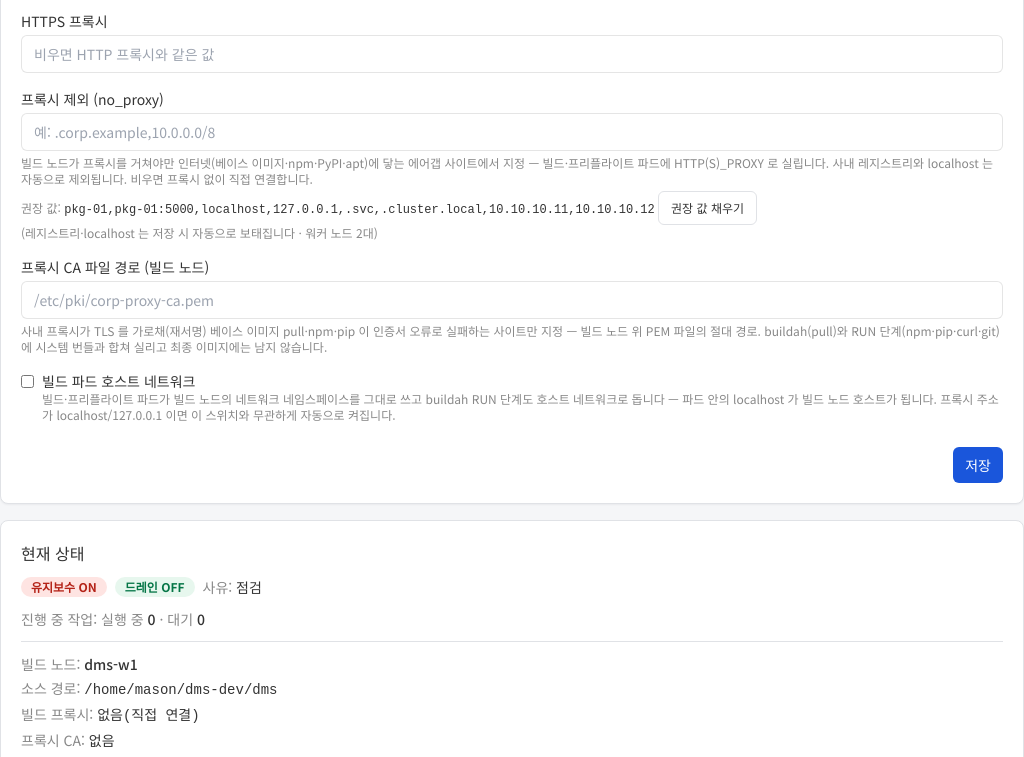
Test case: 호스트 네트워크 스위치를 켜 저장하면 본문에 실리고 현재 상태에 보인다
This screenshot has width=1024, height=757.
(page scrolled)
Click the checkbox labelled "빌드 파드 호스트 네트워크" at (28, 382), box [21,375,34,388]
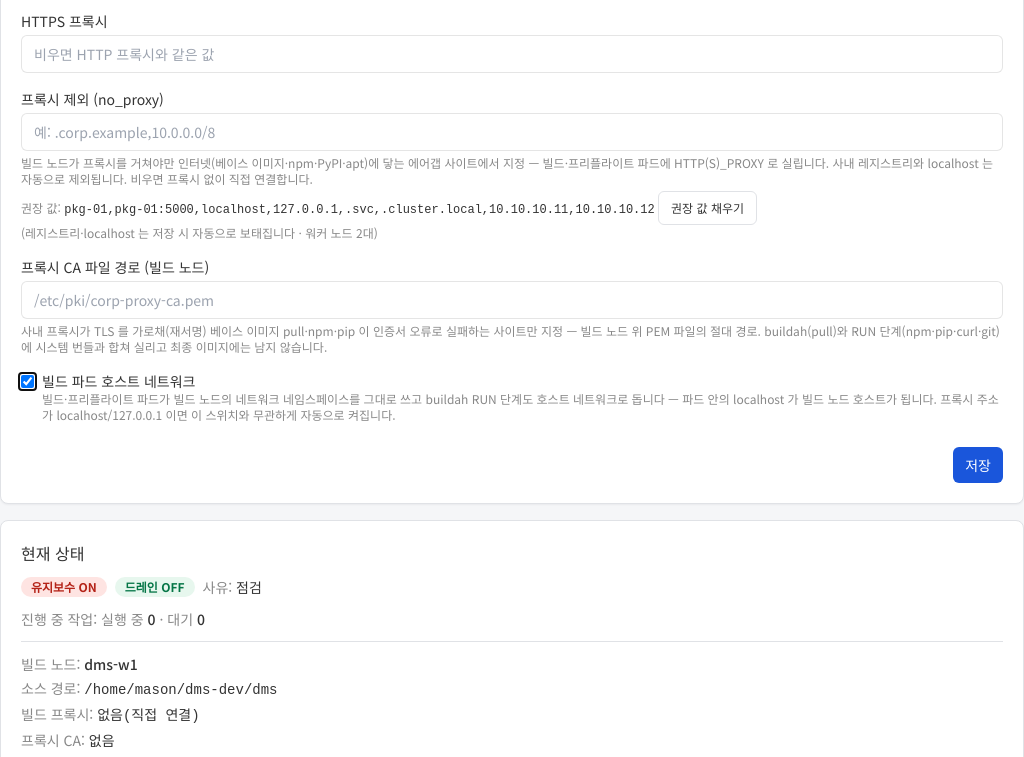
Click the button "저장" at (978, 465), box [953,447,1003,483]
(page scrolled)
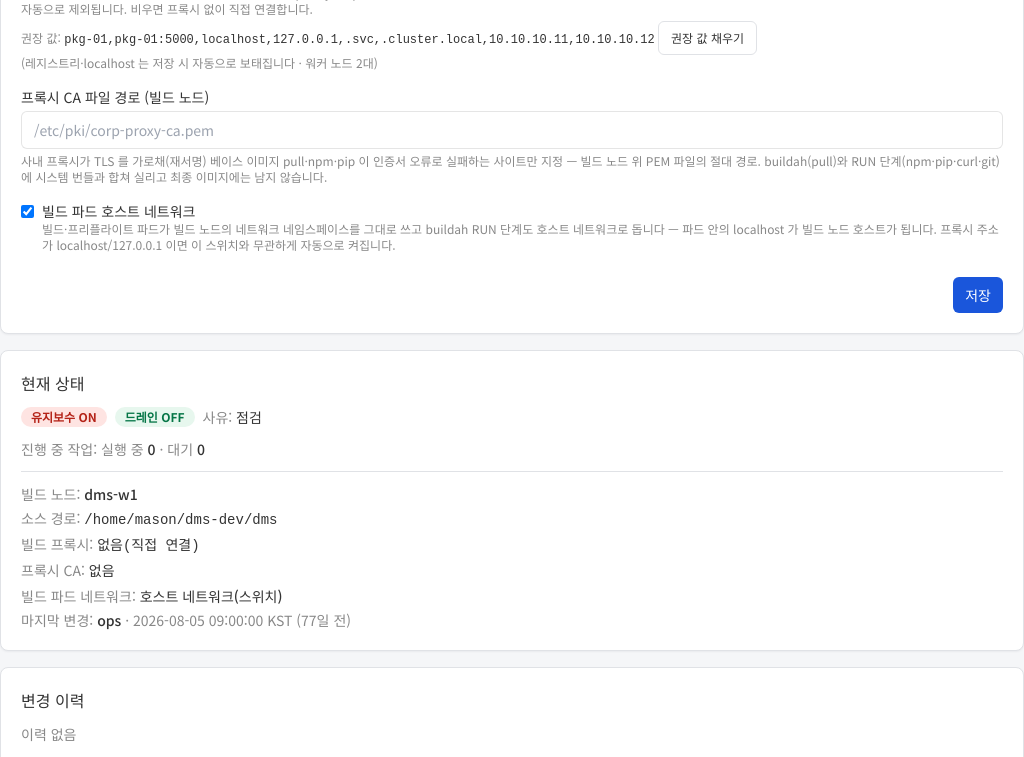
Check: the text "호스트 네트워크(스위치)" is shown, box [140,586,282,606]
